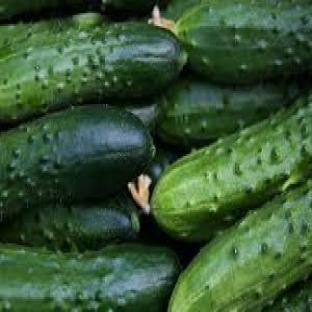Cucumber: (151, 95, 311, 241), (0, 13, 186, 122), (169, 181, 311, 311), (0, 106, 153, 217), (0, 244, 179, 311), (158, 78, 299, 146), (0, 194, 139, 250), (146, 145, 179, 189), (265, 281, 311, 311), (123, 101, 159, 133)
